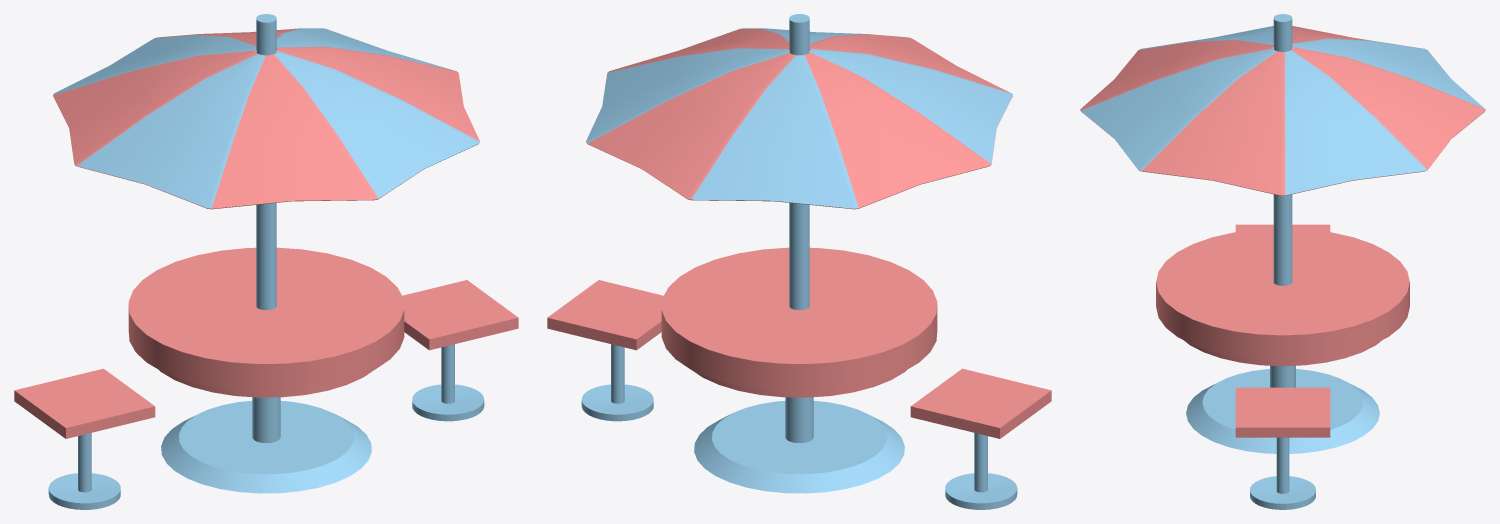
Rendered from table2.fbx.
3 views of the same model, side by side, from view 1: azimuth 30°, elevation 25°; view 2: azimuth 150°, elevation 25°; view 3: azimuth 270°, elevation 25° (orthographic). The views are drawn at different scales.
Visible parts, largest first — view 1: table_03_l; view 2: table_03_l; view 3: table_03_l.
Boxes of the visible parts, bbox=[...] form: table_03_l: bbox=[14, 14, 518, 509]; table_03_l: bbox=[547, 14, 1051, 509]; table_03_l: bbox=[1080, 14, 1485, 509].
Size of the model in its own units: 4.93 by 4.5 by 4.16.
1 material, 1 textured.
